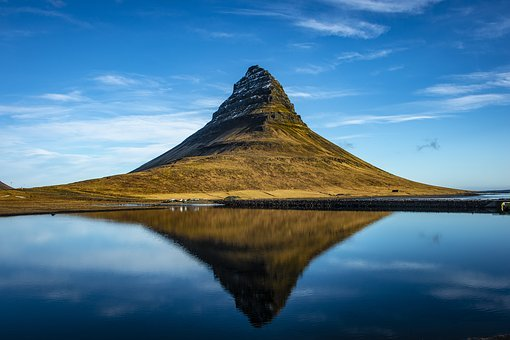lake: (5, 212, 510, 336)
mountain: (88, 69, 434, 199)
sky: (1, 1, 509, 99)
